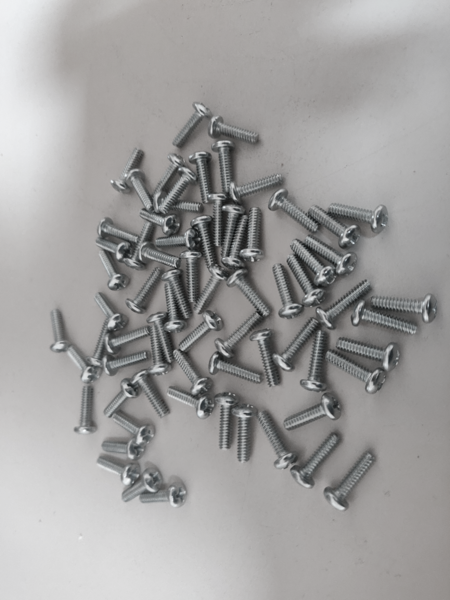shortscrew: (323, 451, 377, 512), (291, 432, 343, 490), (317, 280, 374, 331), (325, 350, 386, 394), (258, 409, 299, 471), (273, 318, 319, 372), (214, 312, 265, 359), (309, 205, 362, 250), (351, 300, 419, 335), (290, 238, 338, 287), (268, 189, 320, 234), (284, 393, 342, 432), (227, 268, 271, 318), (304, 236, 357, 277), (286, 254, 326, 308), (336, 338, 401, 371), (178, 311, 224, 354), (371, 294, 439, 323), (250, 329, 282, 389), (172, 102, 212, 149), (132, 369, 169, 419), (273, 263, 305, 320), (161, 167, 199, 214), (230, 173, 285, 205), (209, 352, 264, 384), (195, 265, 230, 315), (330, 204, 390, 233), (126, 266, 162, 314), (301, 331, 328, 393), (167, 386, 216, 420), (231, 404, 258, 463), (146, 312, 175, 366), (111, 148, 145, 194), (103, 378, 142, 418), (153, 154, 186, 201), (222, 215, 250, 269), (208, 116, 260, 145), (124, 219, 153, 271), (214, 393, 239, 450), (103, 326, 152, 355), (112, 414, 156, 446), (221, 204, 246, 260), (122, 469, 163, 503), (240, 208, 265, 263), (94, 292, 128, 332), (211, 141, 237, 193), (191, 216, 217, 268), (67, 345, 101, 384), (140, 482, 189, 509), (97, 457, 141, 487), (103, 350, 151, 377), (99, 250, 130, 291), (179, 251, 203, 303), (148, 325, 172, 377), (139, 242, 183, 270), (126, 170, 154, 213), (154, 191, 203, 215), (137, 210, 182, 236), (208, 192, 229, 247), (74, 386, 97, 435), (156, 228, 203, 251), (98, 218, 138, 244), (87, 322, 110, 367), (96, 238, 134, 264), (101, 438, 145, 460), (50, 309, 69, 353)
